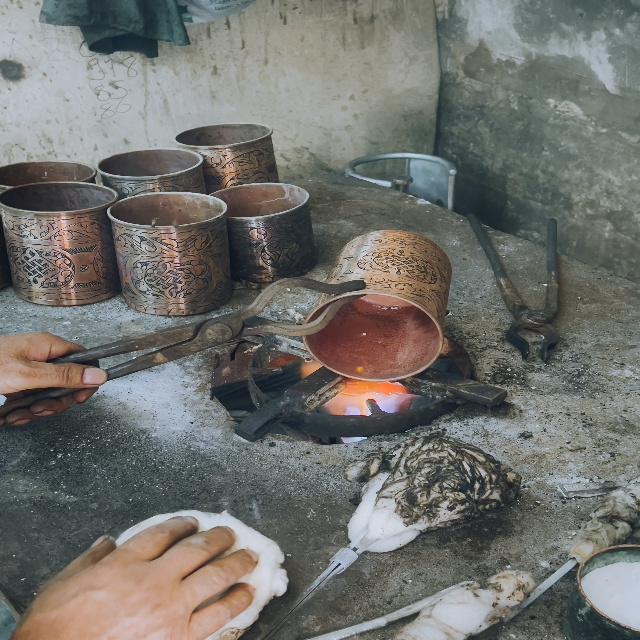Sin_guantes: (15, 497, 254, 640), (0, 338, 113, 437)
